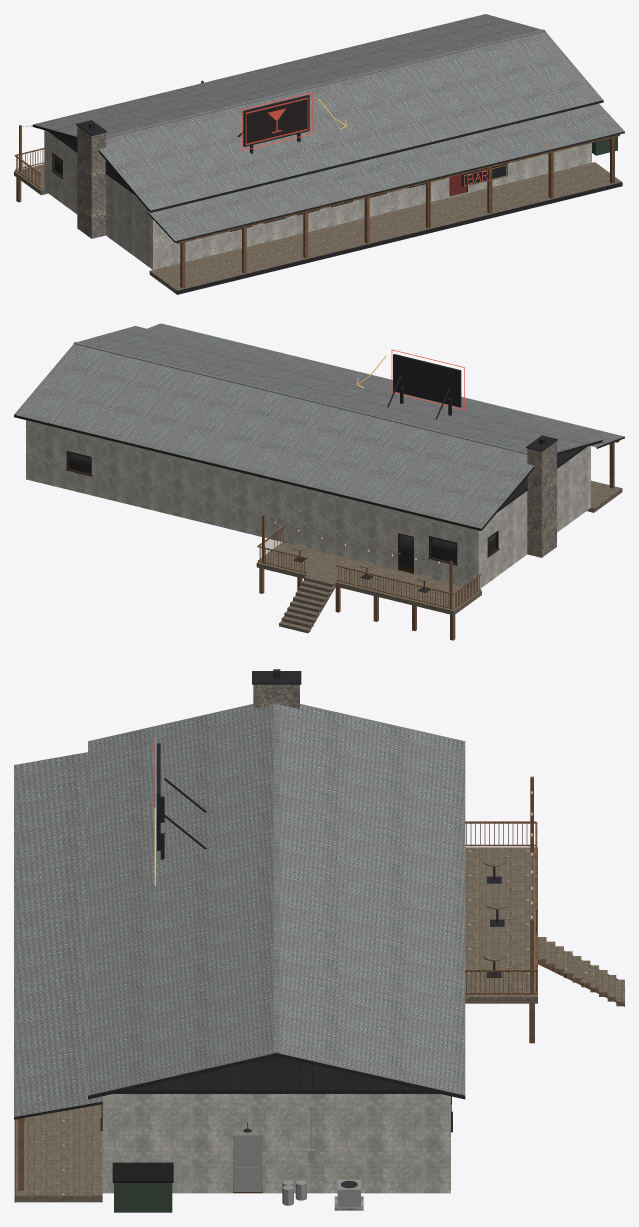
Rendered from town_bar.gltf.
3 renders of one model, top to bottom at view 1: azimuth 30°, elevation 25°; view 2: azimuth 150°, elevation 25°; view 3: azimuth 270°, elevation 25°, orthographic. The views are drawn at different scales.
Visible parts, largest first — view 1: TownBar_Roof, TownBar_Porch, TownBar_Walls, TownBar_Chimney, TownBar_Fascia, TownBar_Sign_Glow, TownBar_PorchPosts, TownBar_Ridge, TownBar_PorchBeam, TownBar_Railing, TownBar_Neon_Glow, TownBar_PorchSign (+3 smaller); view 2: TownBar_Roof, TownBar_Walls, TownBar_RiverDeck, TownBar_Chimney, TownBar_SignSteel, TownBar_Railing, TownBar_Fascia, TownBar_Steps, TownBar_Ridge, TownBar_DeckPosts, TownBar_Window, TownBar_Trim (+2 smaller); view 3: TownBar_Roof, TownBar_Walls, TownBar_RiverDeck, TownBar_Porch, TownBar_Gables, TownBar_Dumpster, TownBar_Ridge, TownBar_Steps, TownBar_Railing, TownBar_Fascia, TownBar_Trim, TownBar_Door_2_Leaf (+4 smaller).
Part boxes in pixels (left/top/right/bottom): TownBar_Roof: left=33, top=14, right=624, bottom=241; TownBar_Porch: left=149, top=162, right=622, bottom=294; TownBar_Walls: left=44, top=130, right=591, bottom=269; TownBar_Chimney: left=77, top=126, right=105, bottom=238; TownBar_Fascia: left=32, top=100, right=624, bottom=242; TownBar_Sign_Glow: left=245, top=97, right=308, bottom=145; TownBar_PorchPosts: left=180, top=137, right=614, bottom=288; TownBar_Ridge: left=106, top=29, right=545, bottom=138; TownBar_PorchBeam: left=176, top=134, right=619, bottom=243; TownBar_Railing: left=14, top=148, right=44, bottom=189; TownBar_Neon_Glow: left=242, top=92, right=506, bottom=186; TownBar_PorchSign: left=461, top=163, right=507, bottom=187; TownBar_Roof: left=14, top=323, right=624, bottom=528; TownBar_Walls: left=26, top=420, right=590, bottom=589; TownBar_RiverDeck: left=256, top=542, right=481, bottom=615; TownBar_Chimney: left=527, top=441, right=556, bottom=557; TownBar_SignSteel: left=387, top=354, right=461, bottom=419; TownBar_Railing: left=257, top=526, right=481, bottom=609; TownBar_Fascia: left=14, top=415, right=624, bottom=530; TownBar_Steps: left=279, top=575, right=335, bottom=633; TownBar_Ridge: left=73, top=341, right=527, bottom=454; TownBar_DeckPosts: left=259, top=515, right=455, bottom=640; TownBar_Window: left=69, top=453, right=495, bottom=562; TownBar_Trim: left=65, top=447, right=586, bottom=565; TownBar_Roof: left=14, top=704, right=465, bottom=1116; TownBar_Walls: left=102, top=1094, right=450, bottom=1193; TownBar_RiverDeck: left=465, top=847, right=537, bottom=1003; TownBar_Porch: left=14, top=1104, right=102, bottom=1202; TownBar_Gables: left=132, top=1057, right=420, bottom=1089; TownBar_Dumpster: left=112, top=1162, right=173, bottom=1212; TownBar_Ridge: left=273, top=703, right=279, bottom=1053; TownBar_Steps: left=538, top=937, right=624, bottom=1006; TownBar_Railing: left=465, top=821, right=537, bottom=994; TownBar_Fascia: left=14, top=1053, right=465, bottom=1119; TownBar_Trim: left=100, top=1089, right=452, bottom=1132; TownBar_Door_2_Leaf: left=233, top=1135, right=261, bottom=1191.
Size of what is drawn, in the model's own units: 30.9 by 9.27 by 21.05.
Materials: 2 (2 with a texture image).
